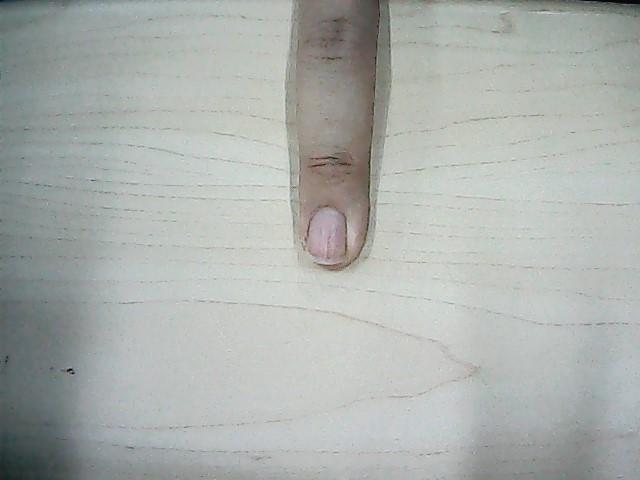nail: (304, 204, 349, 264)
